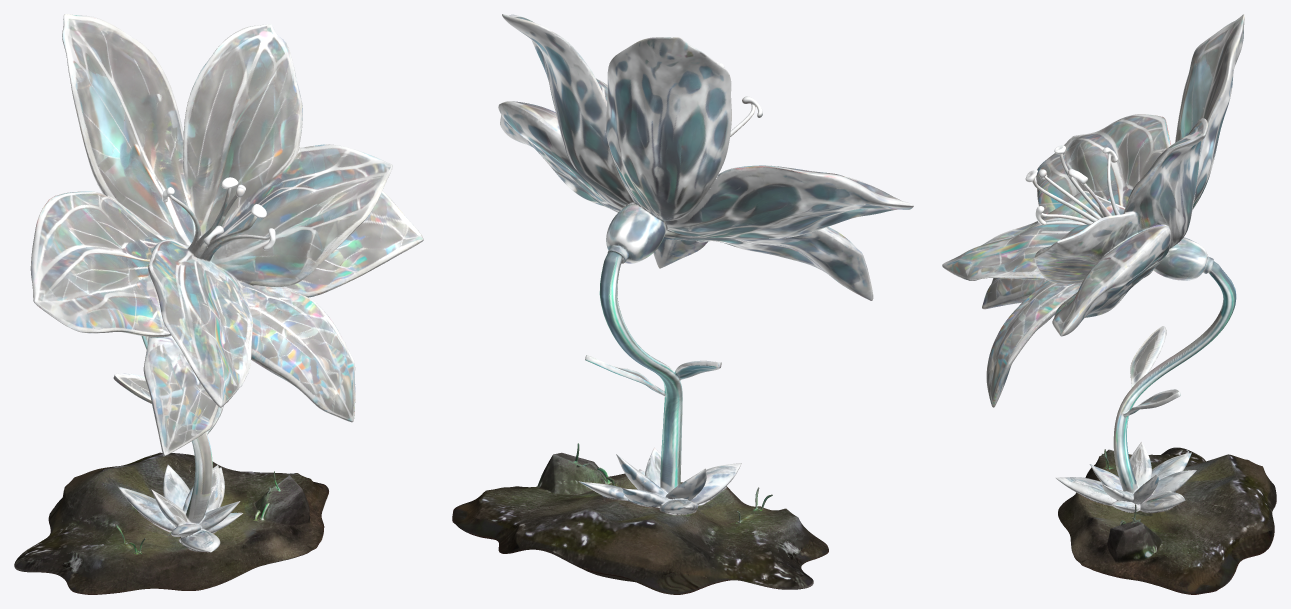
The model's file is Meshy_AI_model.fbx.
3 views of the same model, side by side, from view 1: azimuth 30°, elevation 25°; view 2: azimuth 150°, elevation 25°; view 3: azimuth 270°, elevation 25° (orthographic). The views are drawn at different scales.
Visible parts, largest first — view 1: mesh_node; view 2: mesh_node; view 3: mesh_node.
Boxes of the visible parts, bbox=[...] form: mesh_node: bbox=[14, 14, 423, 594]; mesh_node: bbox=[452, 14, 913, 594]; mesh_node: bbox=[942, 14, 1276, 594].
Bounding box in the file's own units: 148 × 190 × 120.
1 material, 1 textured.
